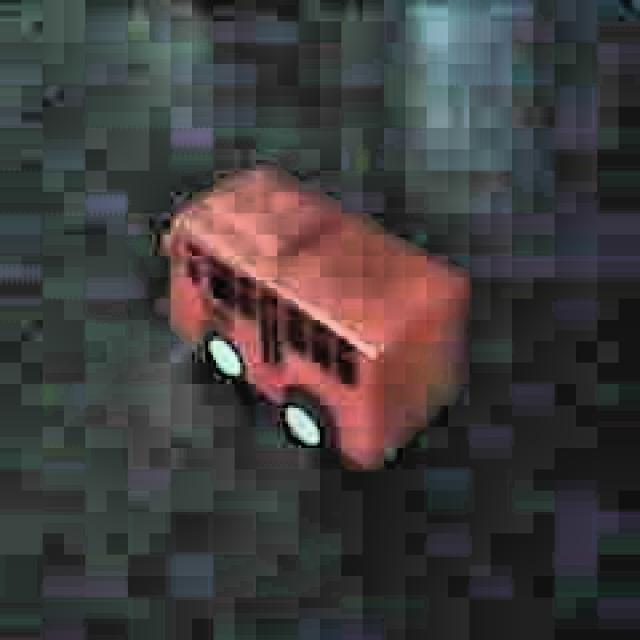bus: (153, 157, 473, 479)
